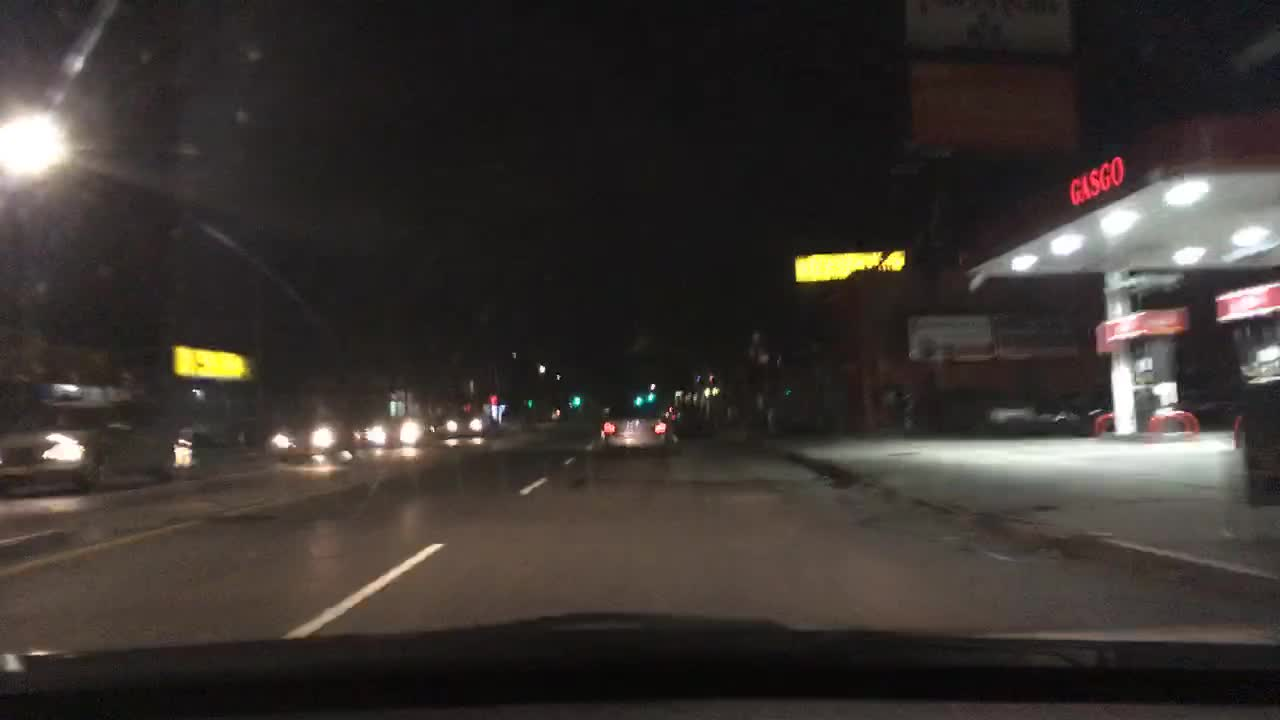car: (0, 399, 177, 494), (267, 407, 373, 464), (1089, 393, 1201, 435), (599, 400, 667, 457), (981, 400, 1086, 435), (366, 413, 448, 447), (1174, 388, 1234, 426), (669, 405, 716, 438), (445, 413, 484, 438)
traffic light: (633, 394, 642, 407), (571, 394, 580, 407), (646, 391, 655, 402)
